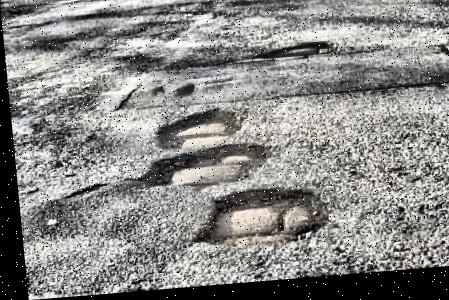pothole: (181, 186, 326, 254), (129, 144, 269, 194), (149, 108, 242, 151), (248, 43, 338, 66)
